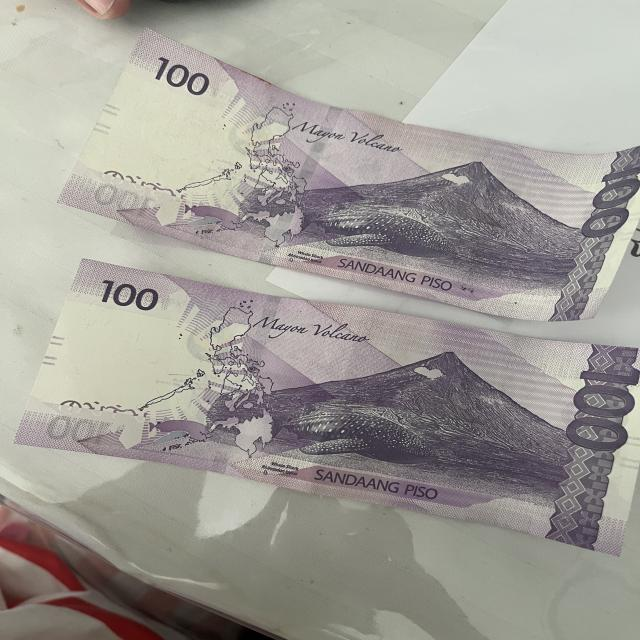100_whale: (245, 396, 445, 478), (286, 189, 464, 267)
100_whale_watermark: (133, 406, 239, 466), (182, 192, 277, 247)
